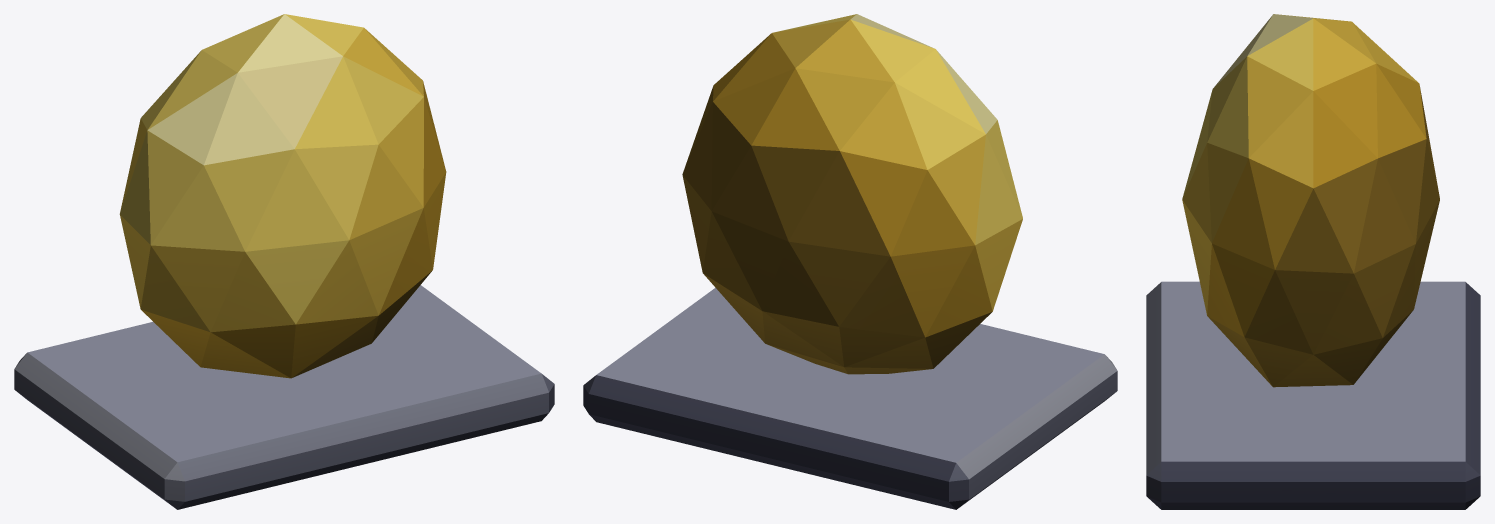
Rendered from old_amber.glb.
3 views of the same model, side by side, from view 1: azimuth 30°, elevation 25°; view 2: azimuth 150°, elevation 25°; view 3: azimuth 270°, elevation 25° (orthographic). The views are drawn at different scales.
Visible parts, largest first — view 1: old_amber; view 2: old_amber; view 3: old_amber.
Part boxes in pixels (left/top/right/bottom): old_amber: left=14, top=14, right=554, bottom=509; old_amber: left=583, top=14, right=1117, bottom=509; old_amber: left=1146, top=14, right=1480, bottom=509.
Size of the model in its own units: 0.6 by 0.5828 by 0.44.
